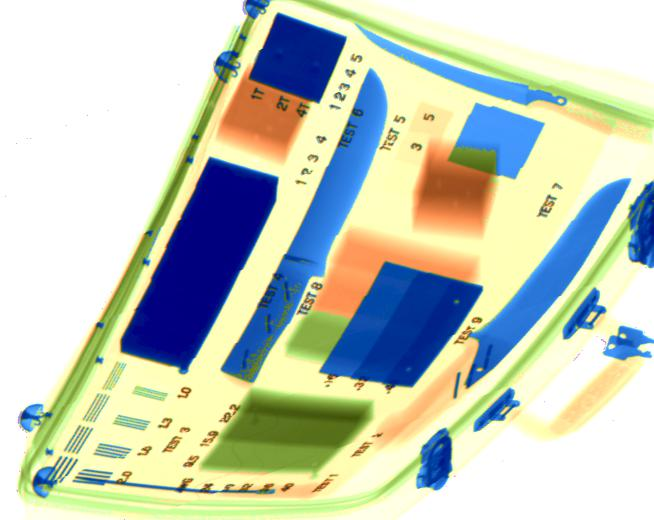Knife: (218, 67, 387, 383), (446, 177, 633, 406), (355, 23, 570, 116)
